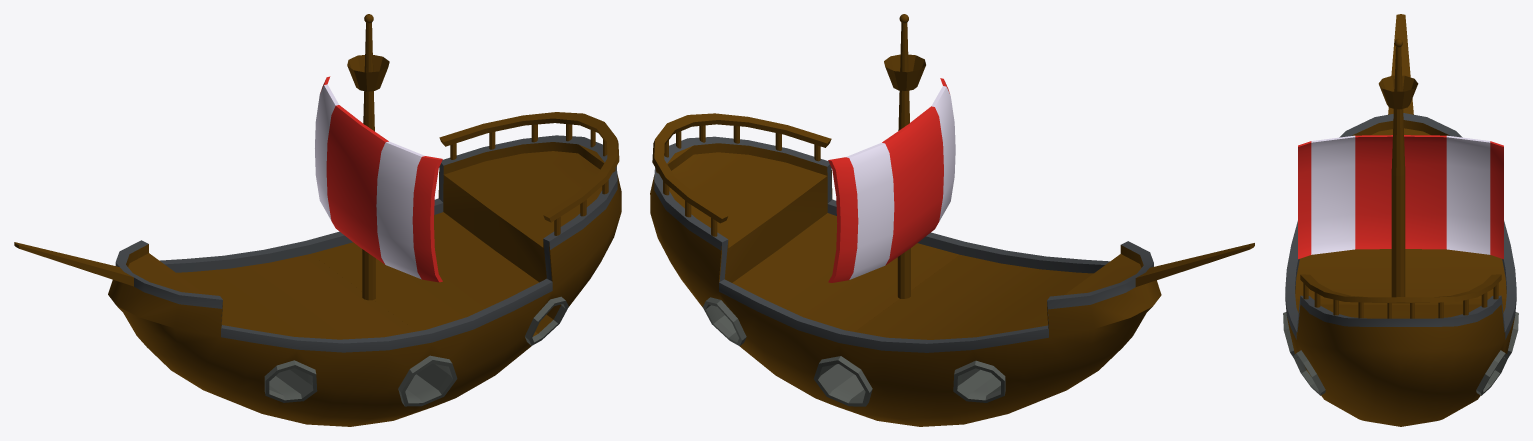
The model's file is barco.fbx.
3 views of the same model, side by side, from view 1: azimuth 30°, elevation 25°; view 2: azimuth 150°, elevation 25°; view 3: azimuth 270°, elevation 25° (orthographic). The views are drawn at different scales.
Visible parts, largest first — view 1: Barco_01; view 2: Barco_01; view 3: Barco_01.
Boxes of the visible parts, x1,y1,x2,y2 form: Barco_01: (14,14,621,426); Barco_01: (650,14,1254,426); Barco_01: (1283,14,1518,426).
Bounding box in the file's own units: 489 × 312 × 184.
